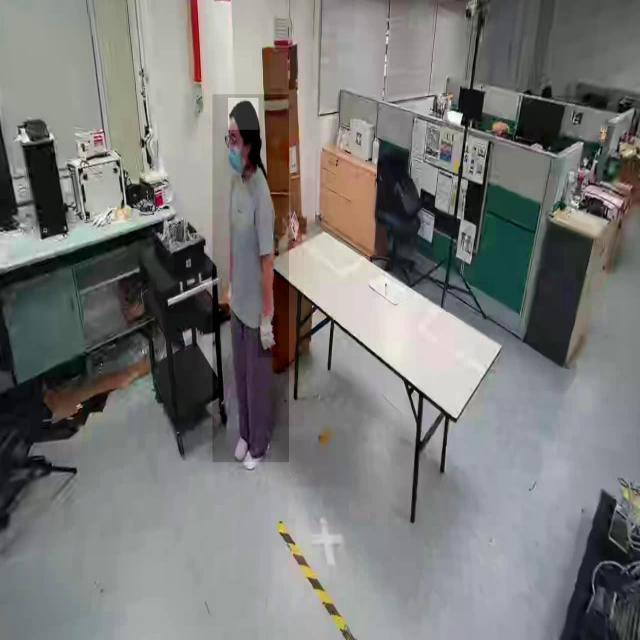boots: (232, 436, 262, 473)
gloves: (258, 315, 278, 358)
